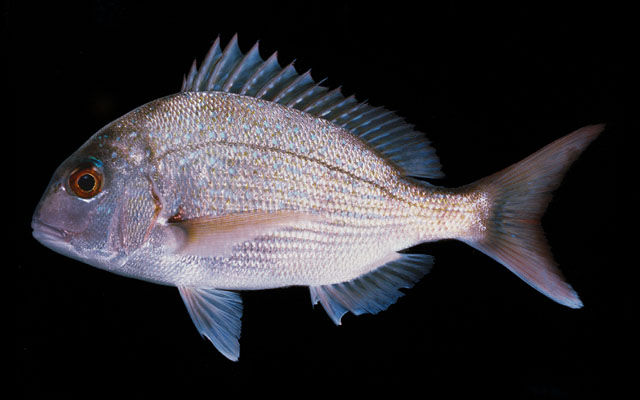fish: (32, 35, 606, 363)
